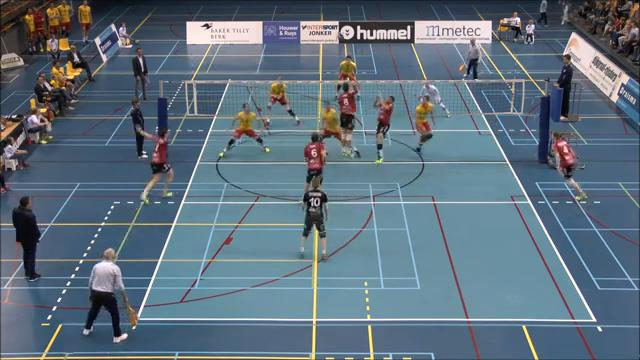attacco: (333, 73, 358, 159)
